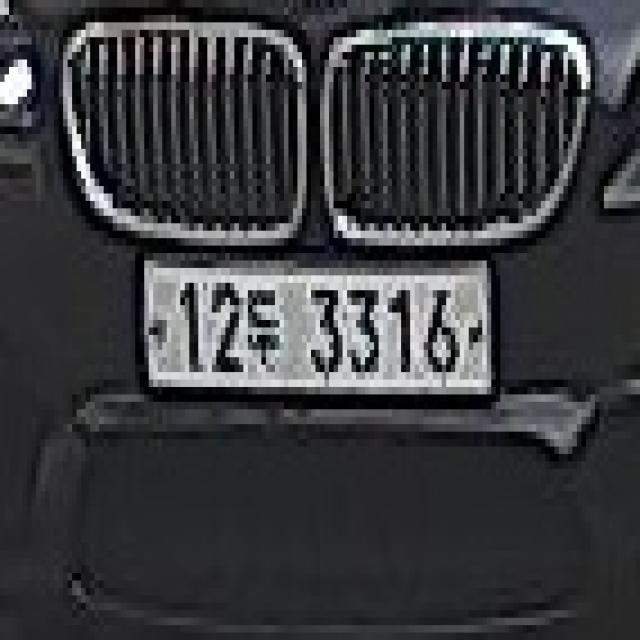1: (172, 268, 208, 394), (388, 275, 419, 387)
2: (207, 268, 248, 394)
3: (342, 276, 388, 394), (307, 275, 347, 387)
6: (419, 275, 469, 387)
du: (244, 283, 288, 387)
license_plate: (131, 238, 500, 409)
